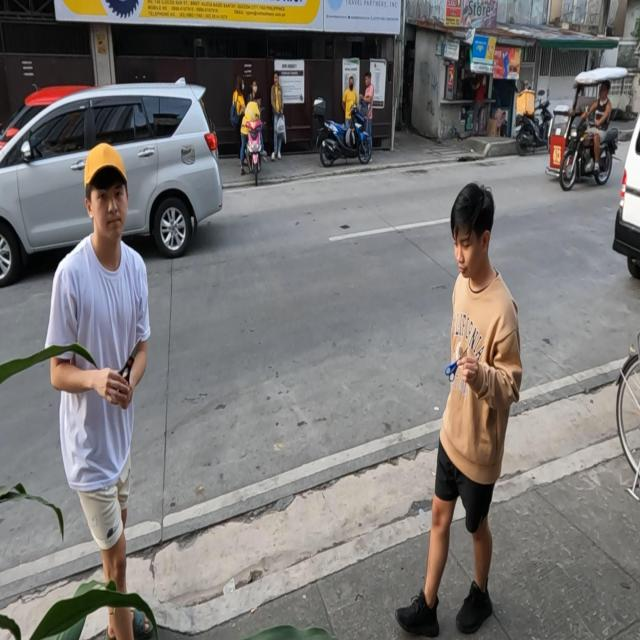scissor: (119, 337, 142, 384), (444, 347, 468, 382)
